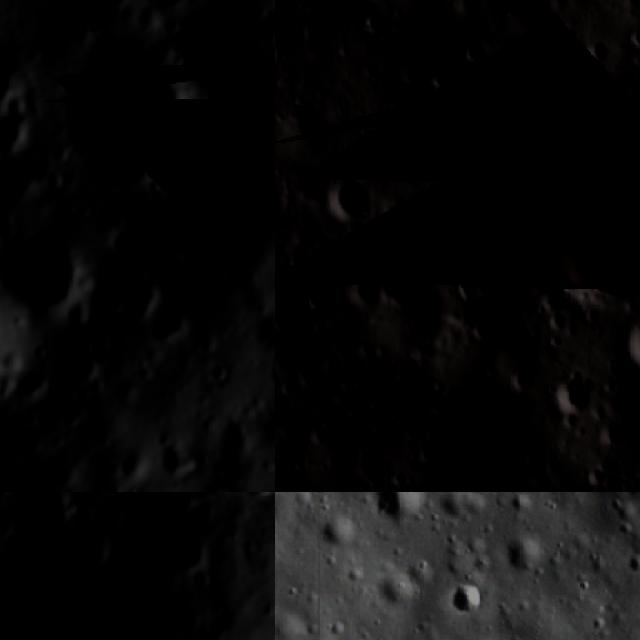crater: (0, 495, 226, 640), (58, 30, 197, 190), (545, 195, 640, 307), (414, 398, 508, 492), (5, 227, 90, 307), (327, 171, 378, 223), (499, 534, 552, 584), (546, 367, 596, 419), (342, 263, 391, 314), (148, 302, 198, 349), (275, 0, 311, 62), (612, 303, 640, 372), (486, 214, 532, 256), (369, 492, 429, 523), (501, 356, 538, 402), (445, 574, 485, 614), (494, 144, 530, 188), (455, 30, 494, 64), (451, 272, 487, 306), (579, 35, 613, 69), (355, 10, 389, 39), (255, 2, 275, 43), (627, 14, 640, 51), (275, 350, 283, 399)
